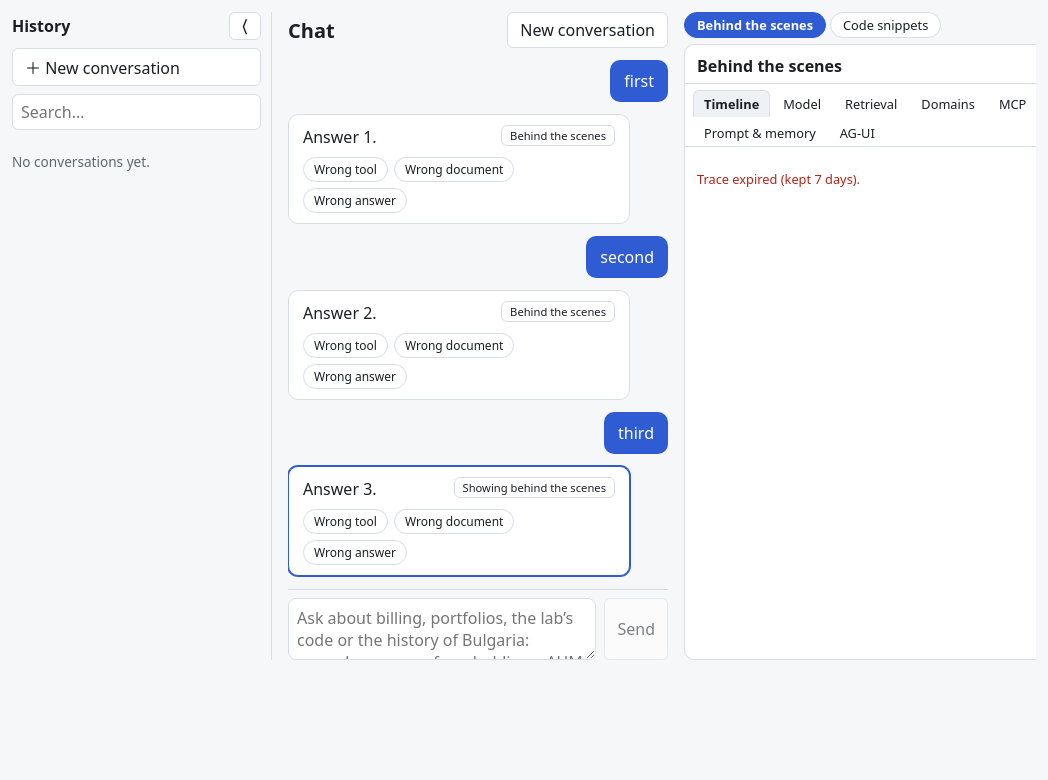
Test case: ChatPage prompt recall › ends the recall when the recalled text is edited
expect the text "Answer 3." is shown: met, box [303, 478, 377, 500]
Click the text box named "Message": click(442, 629) [288, 598, 596, 660]
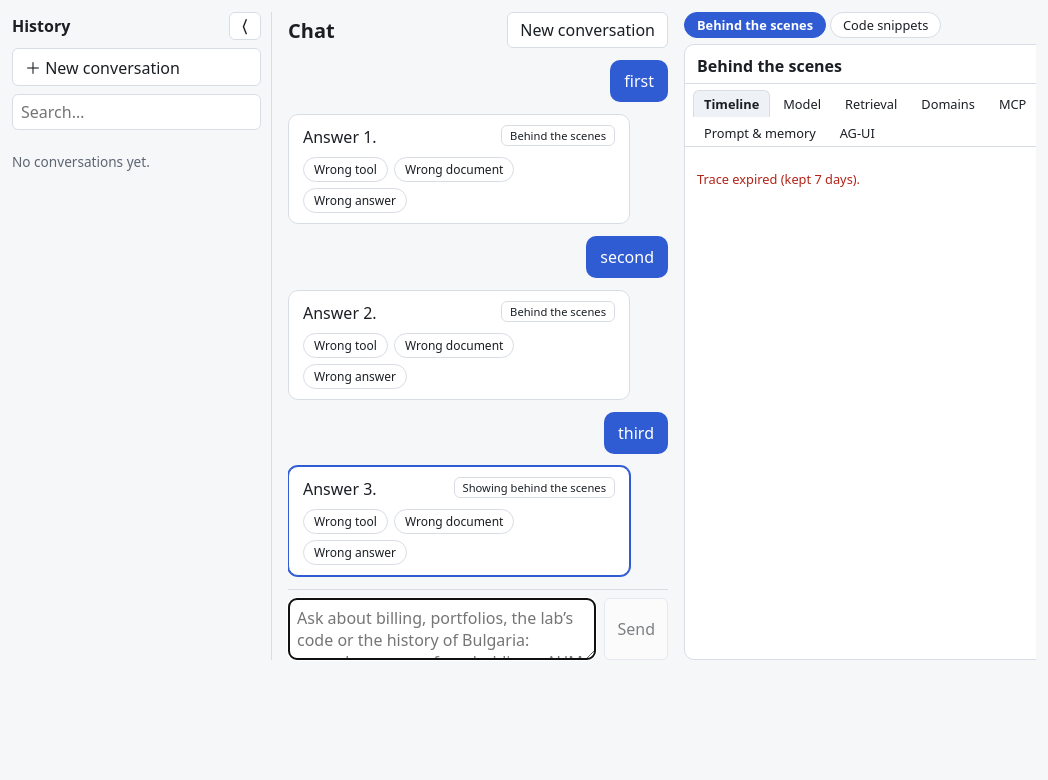
Press Arrowup Arrowup
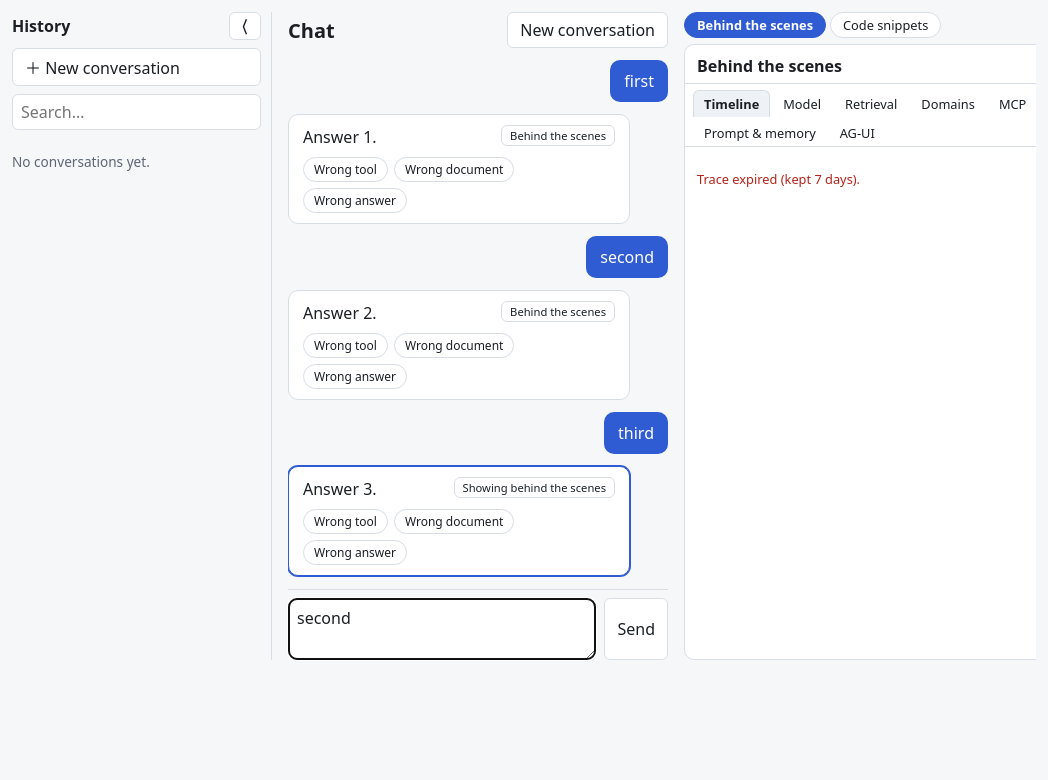
In the text box named "Message": (442, 629) [288, 598, 596, 660], type ", for firm B"
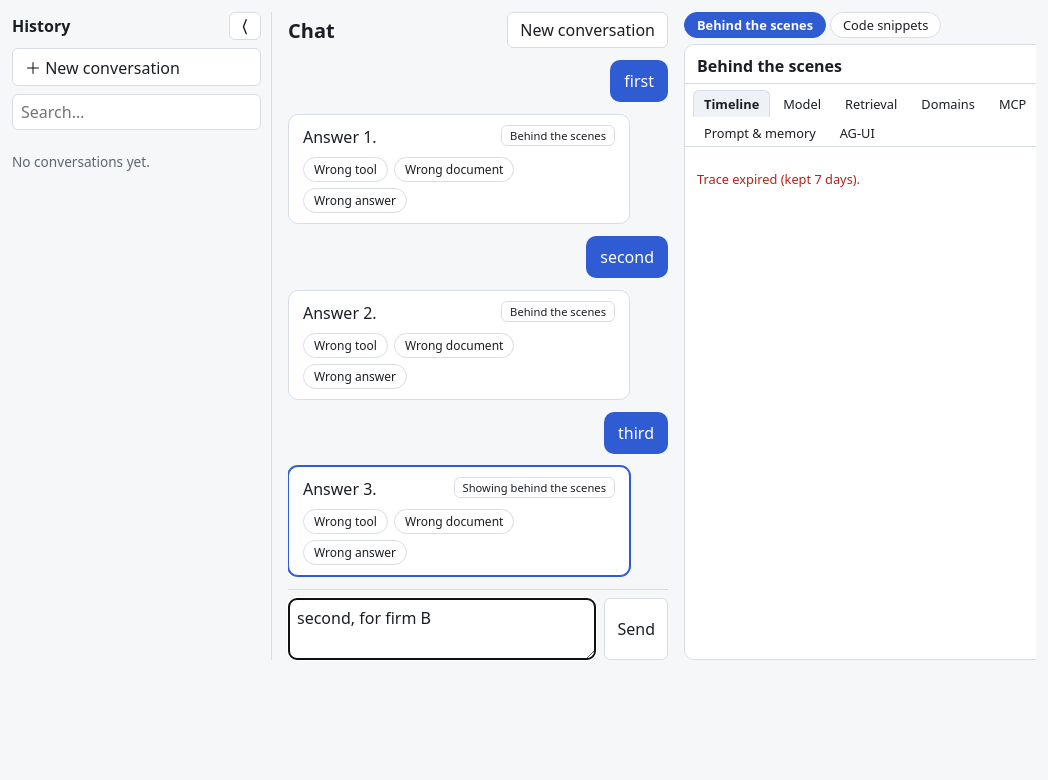
expect the text box named "Message" holds "second, for firm B": met, box [288, 598, 596, 660]
Press Arrowup
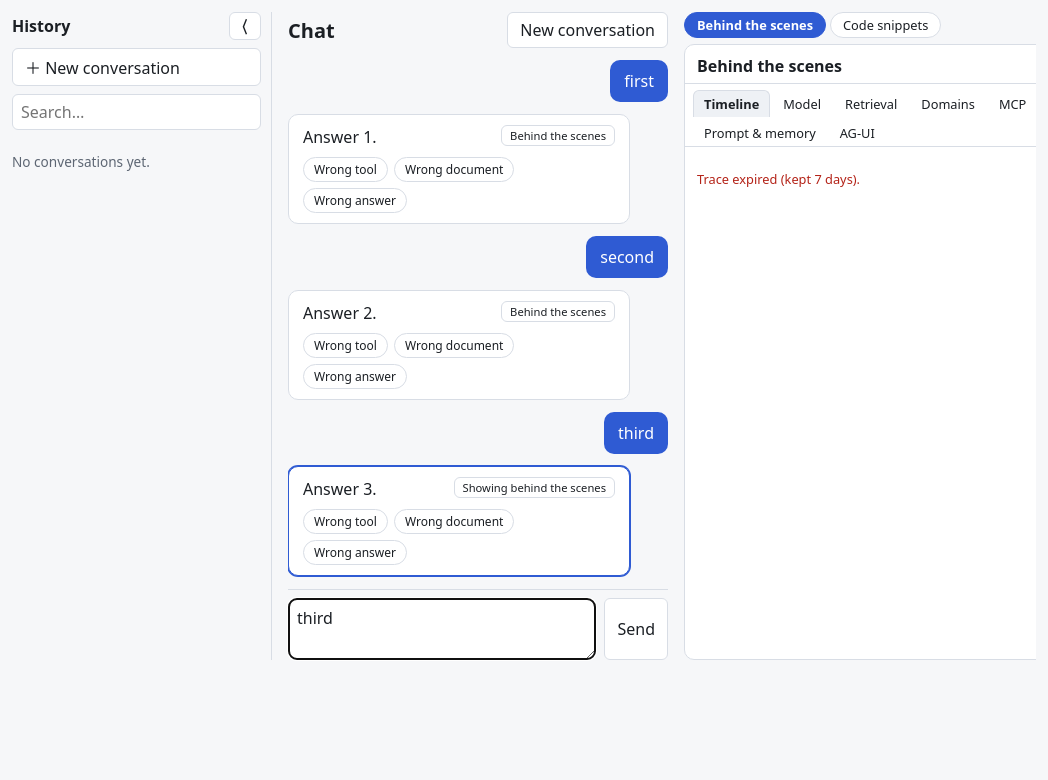
expect the text box named "Message" holds "third": met, box [288, 598, 596, 660]
Press Arrowdown
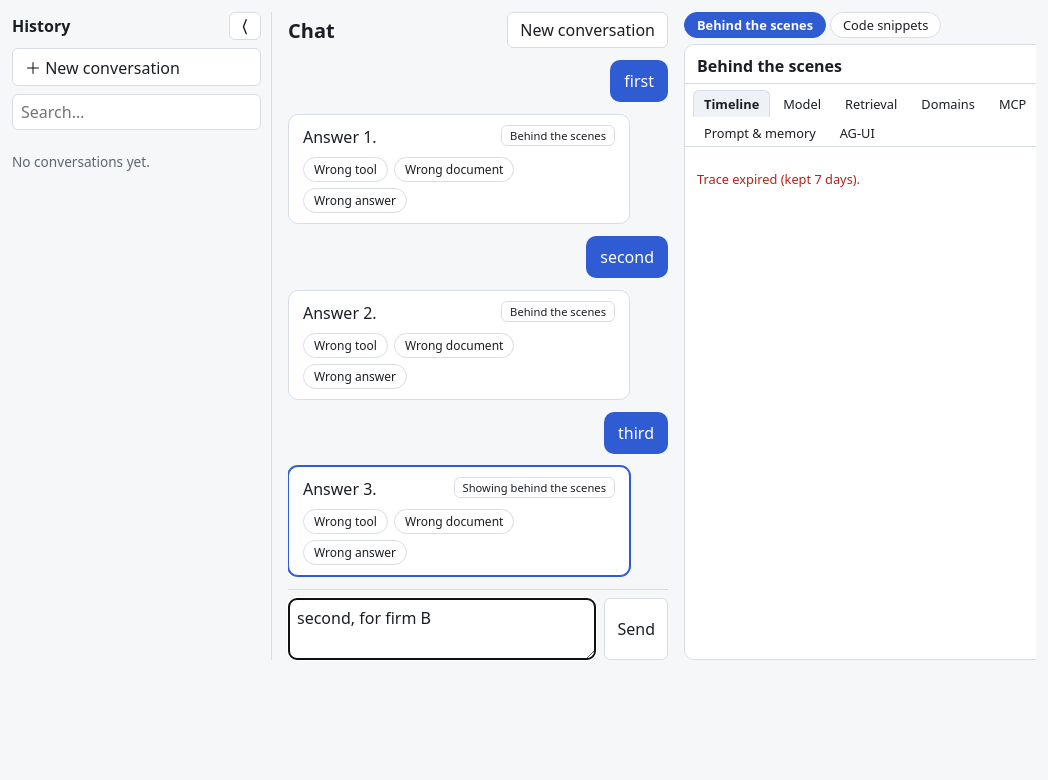
expect the text box named "Message" holds "second, for firm B": met, box [288, 598, 596, 660]
